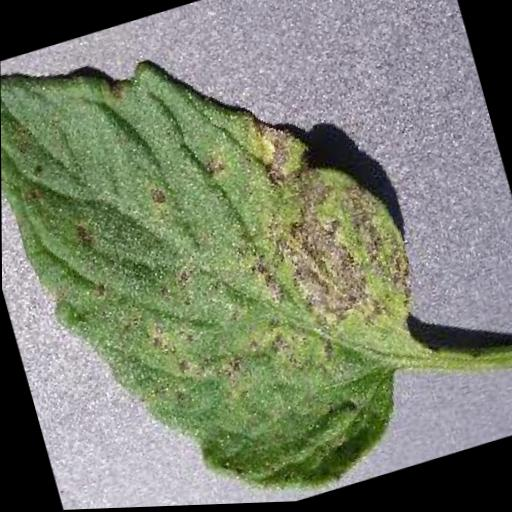Septoria: (0, 0, 466, 512)
